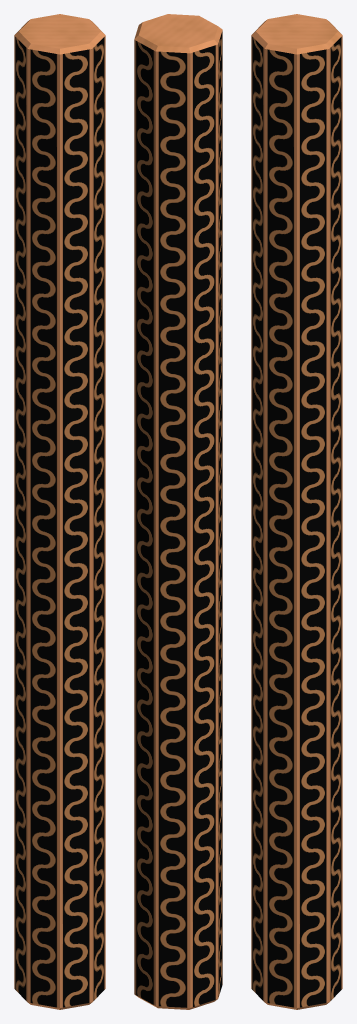
File: M_Cardboard_RoundPIllar_1.fbx
3 renders of one model, left to right at view 1: azimuth 90°, elevation 25°; view 2: azimuth 150°, elevation 25°; view 3: azimuth 270°, elevation 25°, orthographic.
Parts seen in each view (by area): view 1: pCylinder1; view 2: pCylinder1; view 3: pCylinder1.
Part boxes in pixels (x1,y1,x2,y2): pCylinder1: (14, 14, 105, 1009); pCylinder1: (134, 14, 222, 1009); pCylinder1: (251, 14, 342, 1009).
Bounding box in the file's own units: 0.863 × 10 × 0.863.
Materials: 1 (1 with a texture image).
